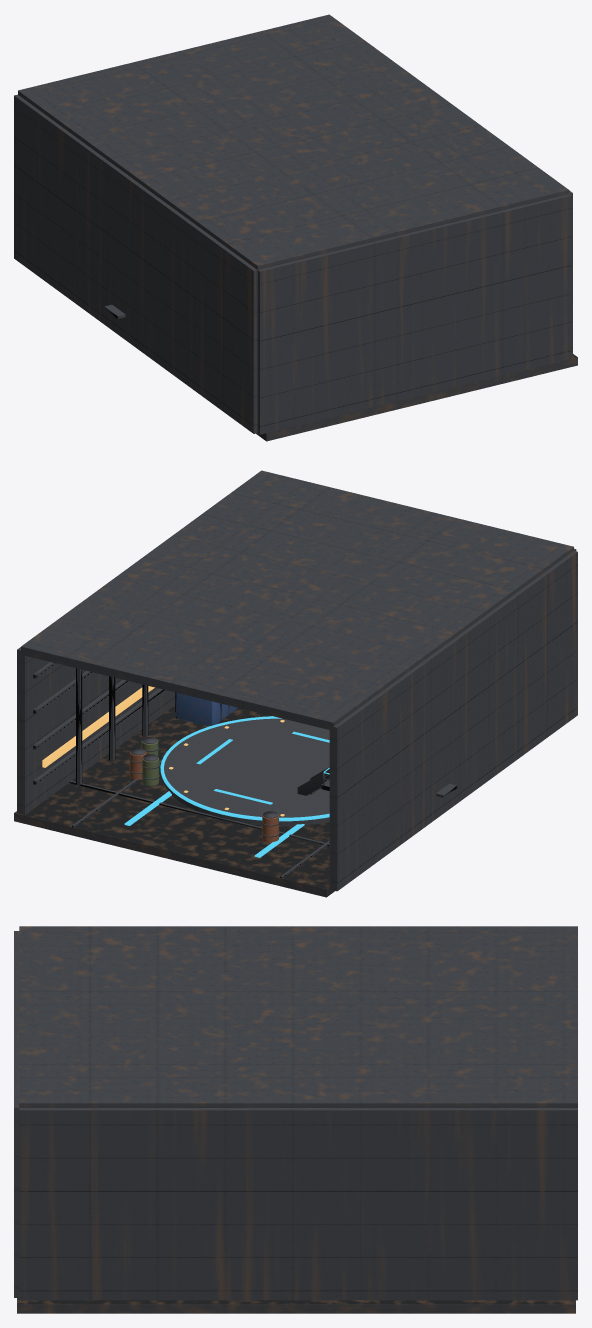
File: hangar_interior.glb
3 renders of one model, top to bottom at view 1: azimuth 30°, elevation 25°; view 2: azimuth 150°, elevation 25°; view 3: azimuth 270°, elevation 25°, orthographic. The views are drawn at different scales.
Visible parts, largest first — view 1: Hall_Ceiling, Hall_WallBack, Hall_WallL, Hall_Floor; view 2: Hall_Ceiling, Hall_WallL, Hall_Floor, LandingPlatform, Hall_WallR, Cont_F, PlatformRing, WallStripe_5.7, SideRibR_0, PipeR_5, FloorSeam_5, SideRibR_1 (+1 smaller); view 3: Hall_WallR, Hall_Ceiling, Hall_Floor, Hall_WallBack.
Part boxes in pixels (x1=…): Hall_Ceiling: x1=18, y1=14, x2=569, y2=269; Hall_WallBack: x1=257, y1=194, x2=571, y2=434; Hall_WallL: x1=14, y1=94, x2=257, y2=433; Hall_Floor: x1=256, y1=354, x2=577, y2=441; Hall_Ceiling: x1=21, y1=470, x2=573, y2=730; Hall_WallL: x1=329, y1=551, x2=577, y2=891; Hall_Floor: x1=14, y1=705, x2=334, y2=897; LandingPlatform: x1=162, y1=718, x2=329, y2=826; Hall_WallR: x1=17, y1=647, x2=175, y2=814; Cont_F: x1=176, y1=692, x2=238, y2=725; PlatformRing: x1=160, y1=716, x2=329, y2=821; WallStripe_5.7: x1=42, y1=686, x2=154, y2=767; SideRibR_0: x1=33, y1=688, x2=165, y2=785; PipeR_5: x1=76, y1=668, x2=82, y2=785; FloorSeam_5: x1=69, y1=780, x2=329, y2=846; SideRibR_1: x1=33, y1=679, x2=129, y2=749; Hall_WallR: x1=19, y1=1108, x2=577, y2=1300; Hall_Ceiling: x1=19, y1=926, x2=577, y2=1107; Hall_Floor: x1=17, y1=1298, x2=575, y2=1313; Hall_WallBack: x1=14, y1=931, x2=19, y2=1297.
Bounding box in the file's own units: 12.75 × 6.5 × 16.15.
13 materials, 11 textured.
